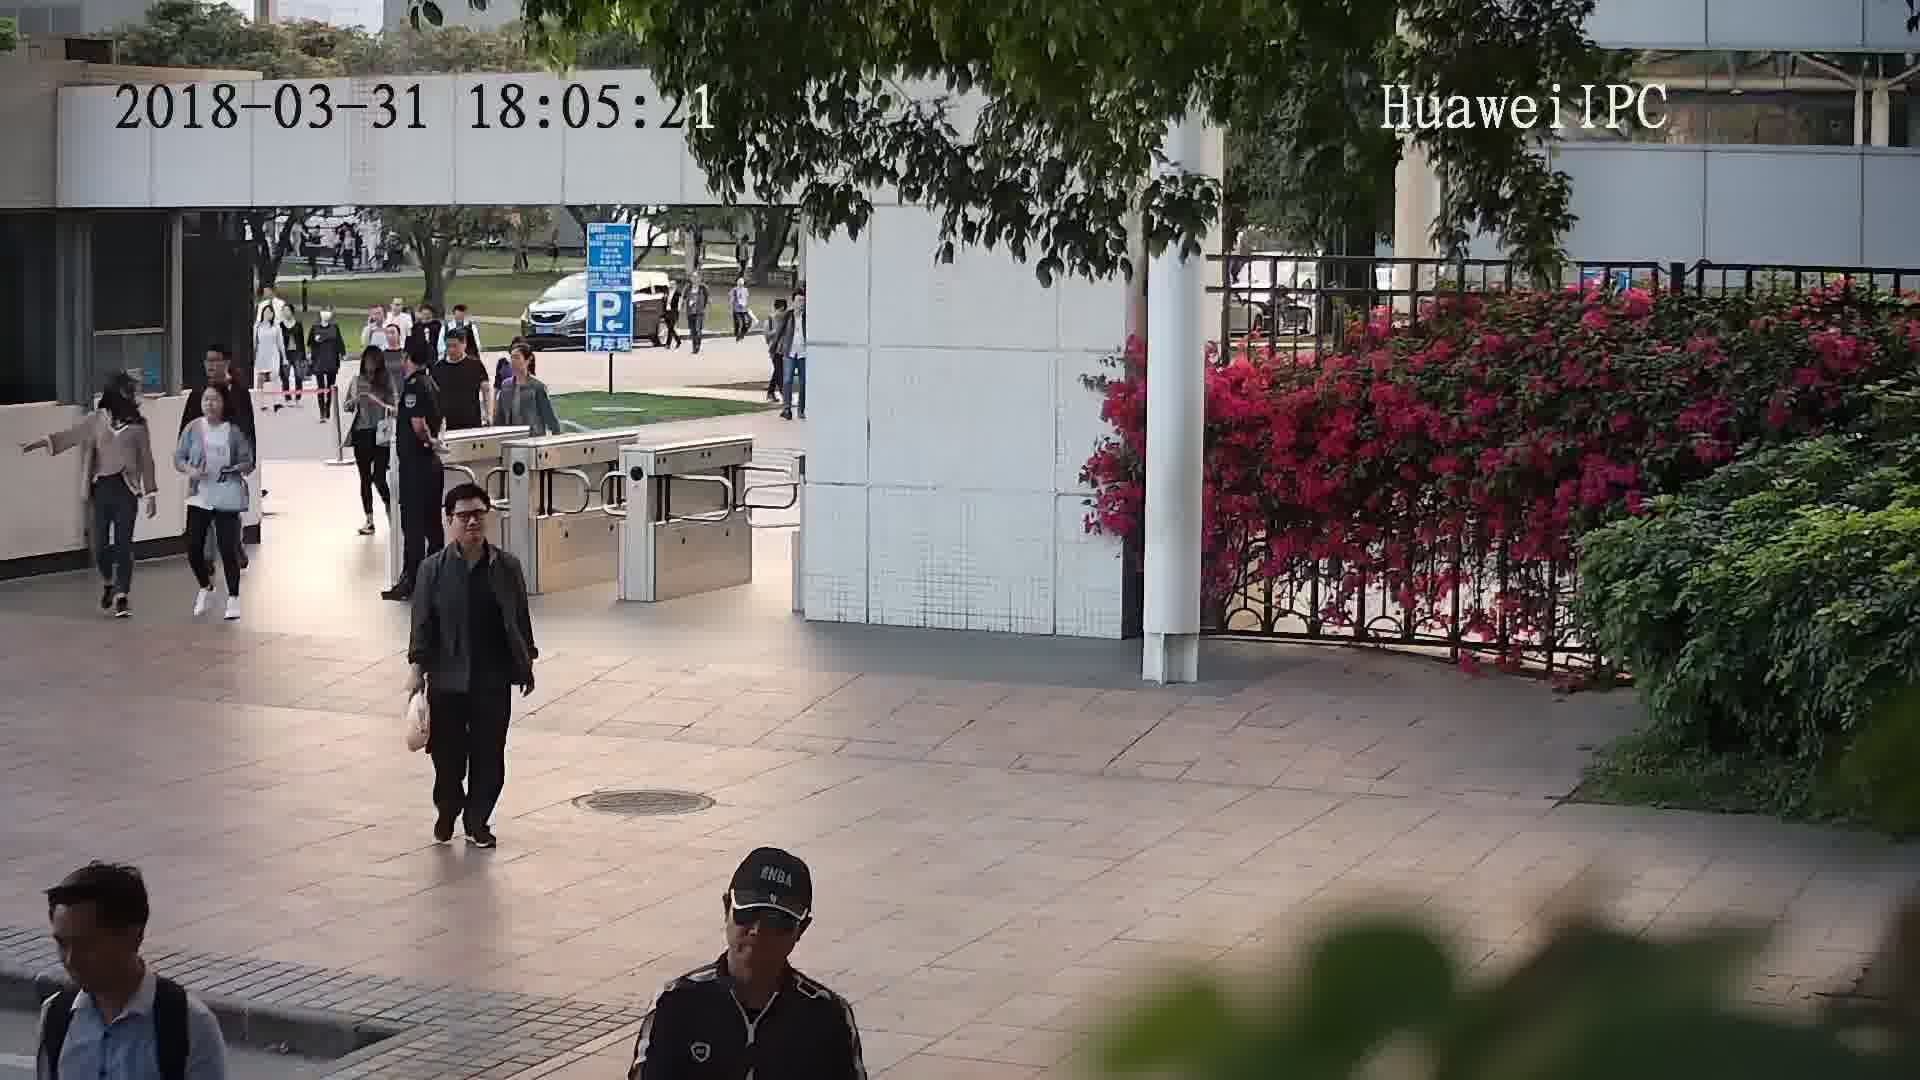face: (44, 894, 137, 987), (718, 907, 806, 971), (444, 495, 494, 550)
person: (652, 847, 862, 1042), (26, 859, 215, 1045), (421, 480, 523, 586), (89, 373, 152, 437), (184, 382, 250, 443), (193, 342, 250, 396), (431, 328, 482, 383), (391, 336, 434, 396), (506, 343, 546, 395), (347, 343, 389, 390), (377, 325, 409, 364), (307, 301, 340, 335), (360, 304, 390, 334), (278, 300, 306, 332), (385, 293, 416, 321), (256, 303, 283, 332), (770, 293, 794, 325), (790, 286, 810, 319), (688, 268, 708, 293), (730, 274, 752, 295), (661, 278, 682, 299)
